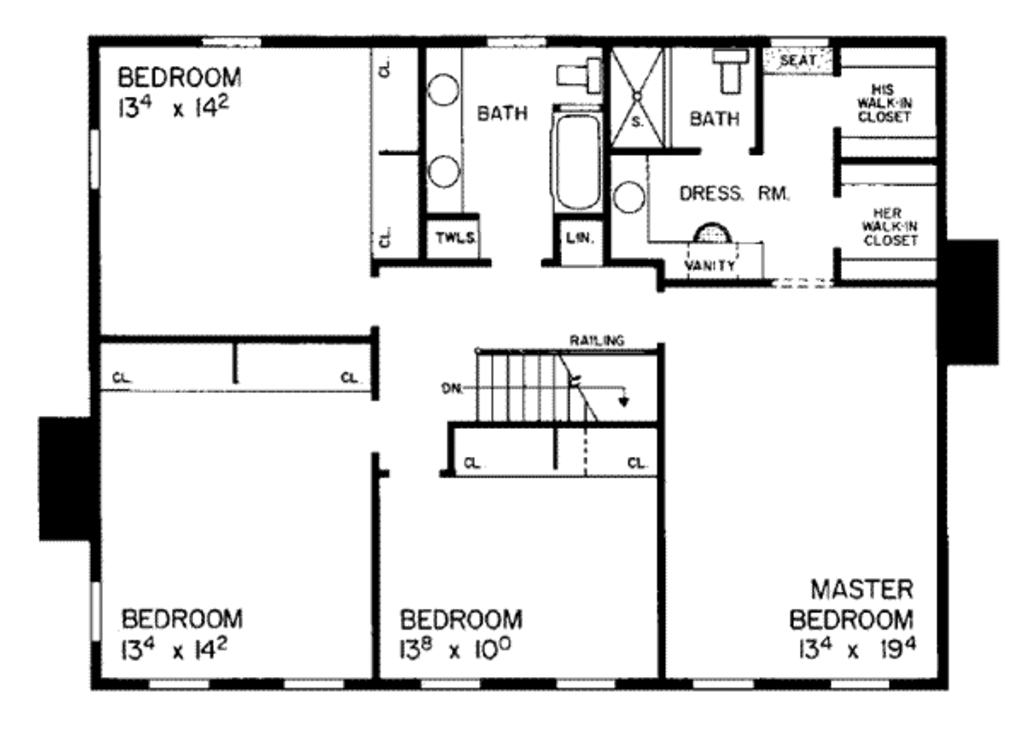large_sink: (550, 50, 603, 102), (699, 47, 751, 100)
small_sink: (419, 45, 465, 217), (610, 148, 652, 258)
stairs: (442, 344, 662, 427)
tub: (544, 106, 608, 214)
windows: (201, 27, 269, 56), (84, 572, 106, 650), (686, 674, 767, 695), (279, 673, 356, 695), (82, 124, 105, 197), (549, 673, 623, 695), (484, 31, 554, 54), (823, 673, 892, 696), (147, 672, 208, 696), (413, 673, 481, 693), (764, 33, 834, 50)
